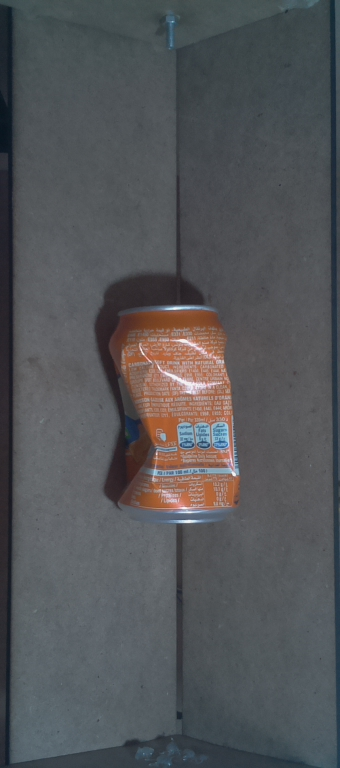Canette: (95, 291, 252, 537)
